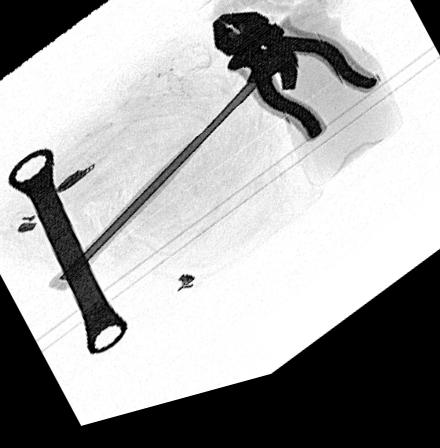Hammer: (48, 54, 300, 297)
Pliers: (210, 19, 385, 159)
Wrench: (8, 149, 133, 363)
